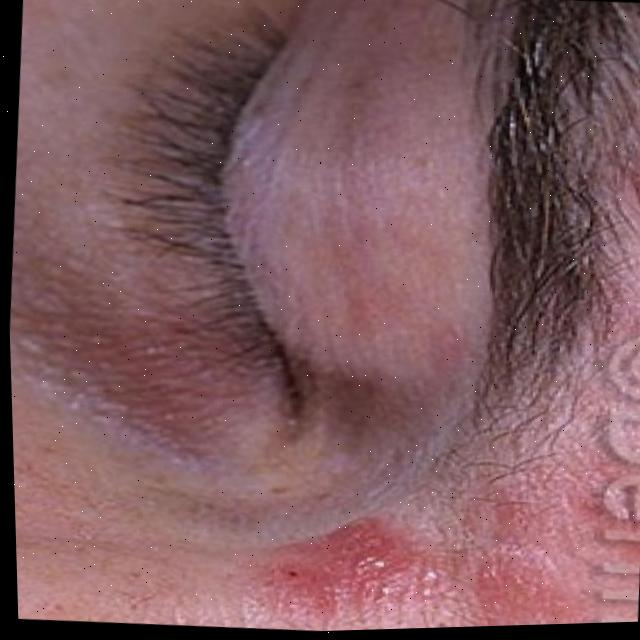Rosacea: (253, 453, 601, 633)
